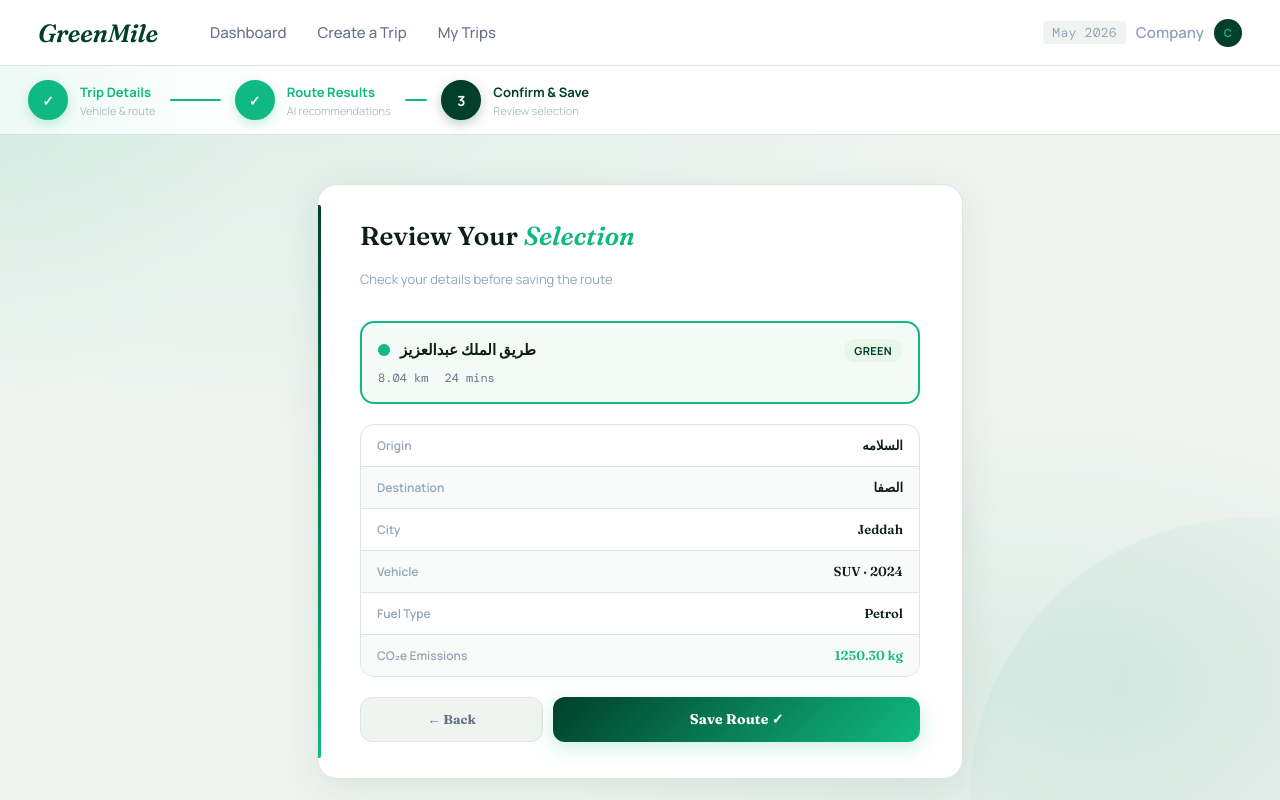
Scenario: ConfirmScreen — Save: Auth & Validation › reads token from sessionStorage when localStorage empty
Click the button "Save Route ✓": (737, 719) [553,697,920,742]
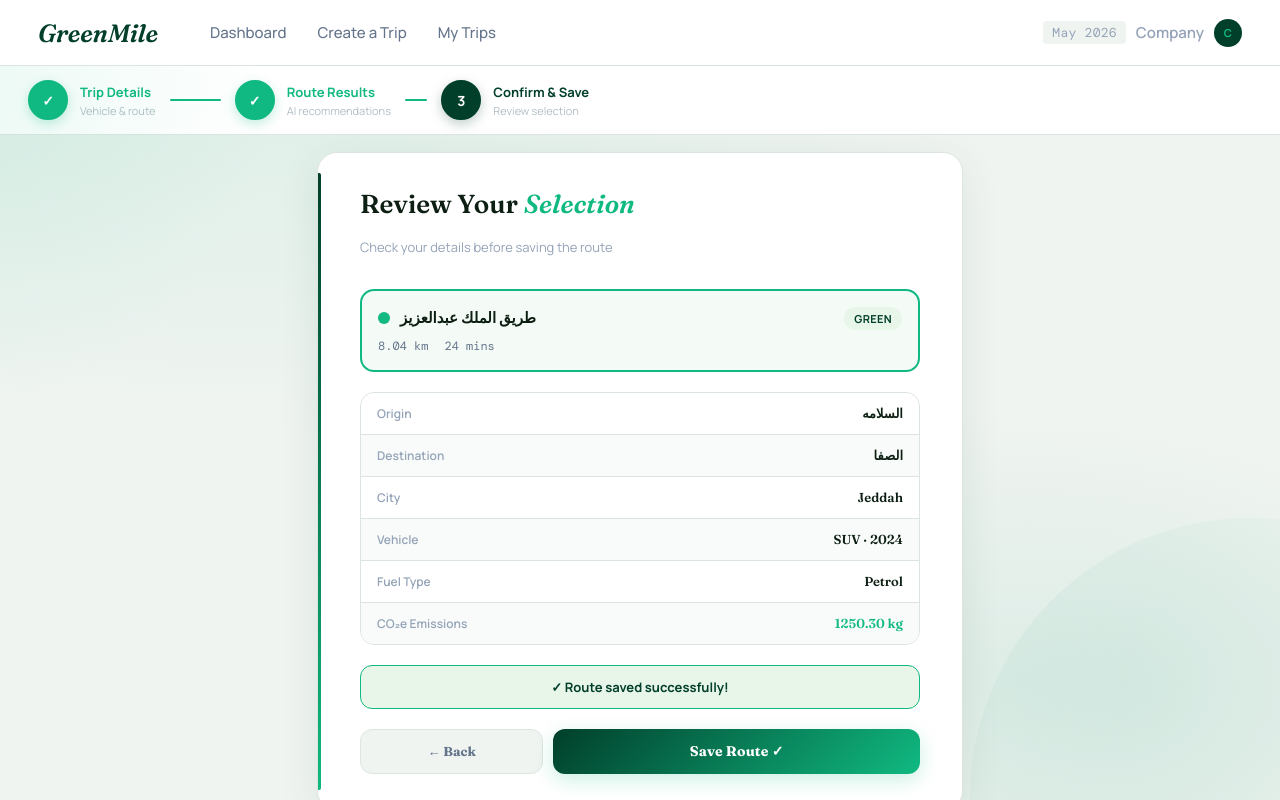
Expected: the text "✓ Route saved successfully!" is shown, [360,665,920,709]
